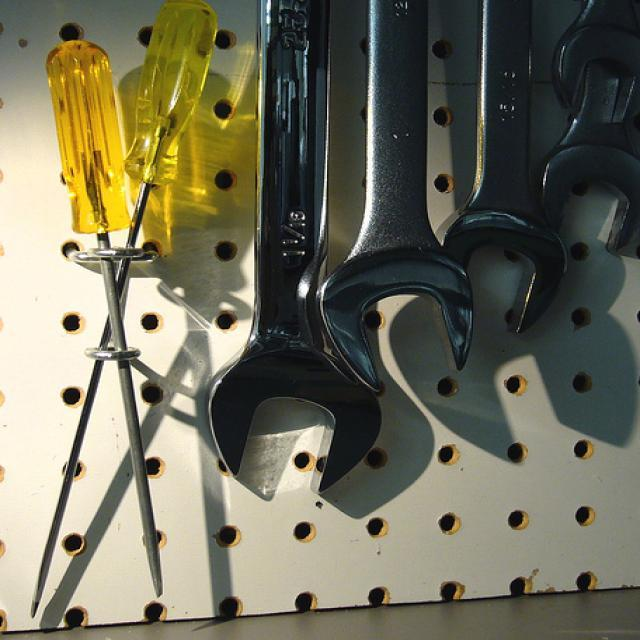screwdriver: (27, 0, 225, 626), (44, 39, 169, 603)
wrench: (204, 0, 385, 496), (315, 0, 479, 399), (437, 0, 571, 341), (537, 59, 640, 256)
